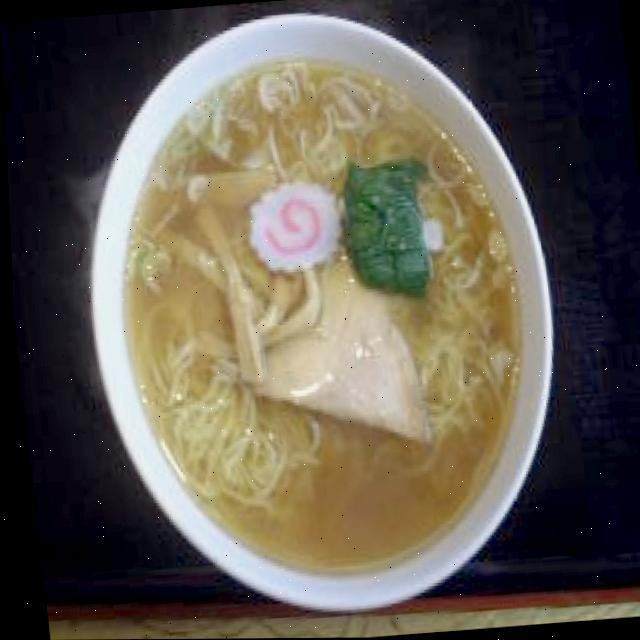面条主食: (53, 0, 589, 633)
